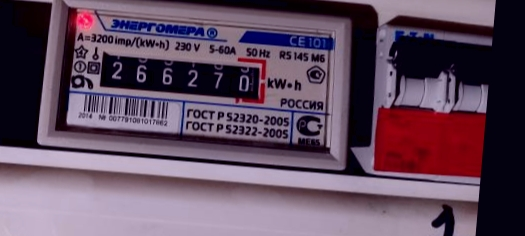0: (236, 73, 251, 95)
2: (109, 61, 124, 83), (186, 69, 200, 90)
6: (134, 64, 148, 86), (160, 67, 175, 87)
7: (212, 71, 223, 91)
screen: (87, 42, 274, 112)
